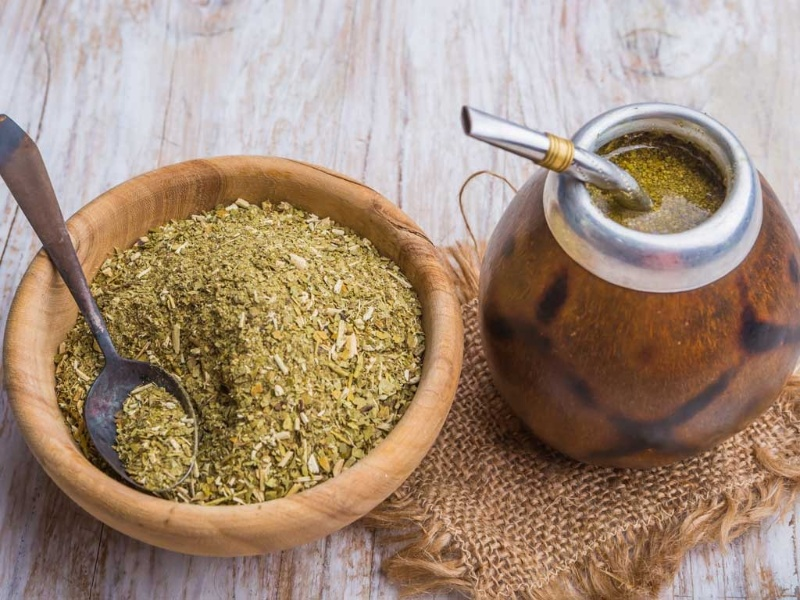guampa: (446, 82, 800, 474)
